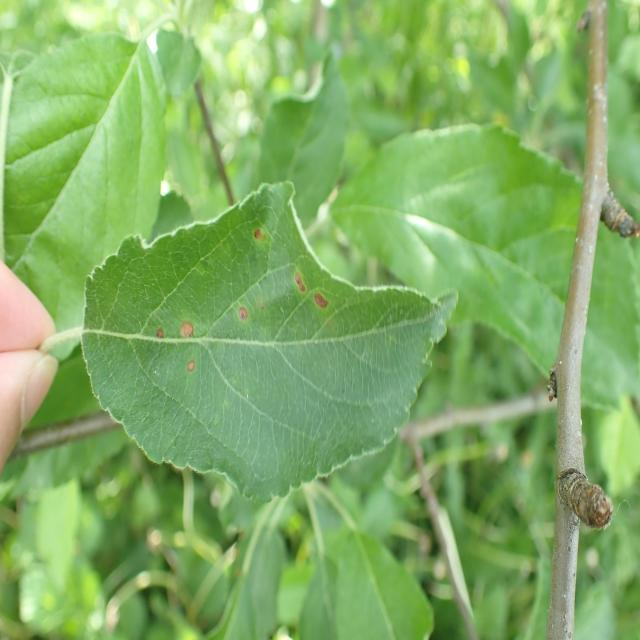frog-eye-leaf-spot: (82, 181, 460, 506)
